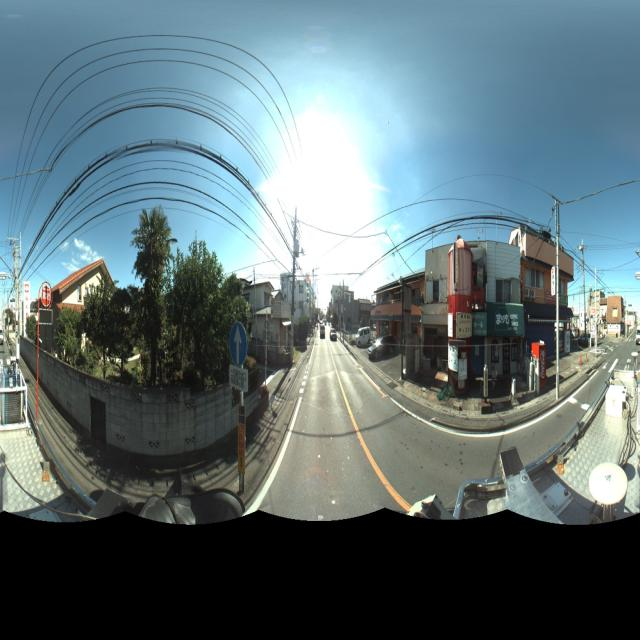b_1: (422, 232, 518, 379), (516, 216, 575, 381), (371, 264, 428, 357), (241, 281, 291, 347), (282, 264, 318, 344), (604, 289, 629, 355)
b_2: (43, 254, 127, 370), (218, 272, 297, 362)
